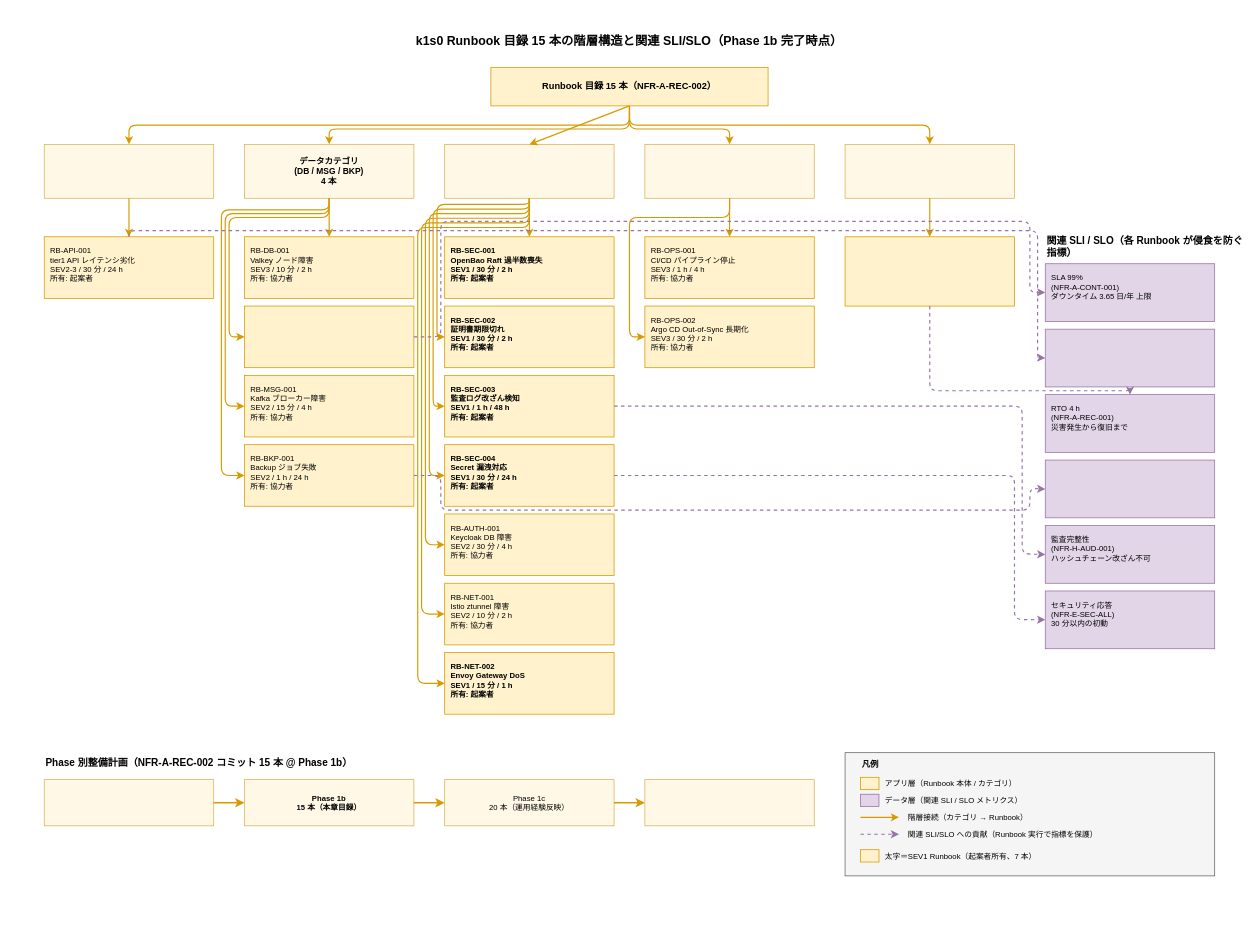
The diagram is 1258 pixels wide and 950 high, and some of its shapes have lost their labels. Here are the shapes that lost their labels. From the top down, the centre of each, then its label:
(x=129, y=171): API カテゴリ (tier1 公開 11 API) 1 本
(x=529, y=171): セキュリティカテゴリ (SEC / AUTH / NET) 7 本
(x=729, y=171): 運用移行カテゴリ (OPS / CI/CD / GitOps) 2 本
(x=929, y=171): 災害復旧カテゴリ (DR) 1 本
(x=929, y=271): RB-DR-001 Disaster Recovery 発動 SEV1 / RTO 4 h 所有: 起案者（Phase 2 で DR 専任）
(x=329, y=336): RB-DB-002 Postgres Primary failover SEV1 / 10 分 / 4 h 所有: 起案者
(x=1130, y=357): SLO 99.9% (NFR-A-CONT-002) エラーバジェット 43 分/月
(x=1130, y=488): RPO 秒オーダー (NFR-A-REC-003) 同期 Replication が前提
(x=129, y=802): Phase 1a 5 本（FMEA 上位事象）
(x=729, y=802): Phase 2 30 本（DR/Temporal 拡張）
